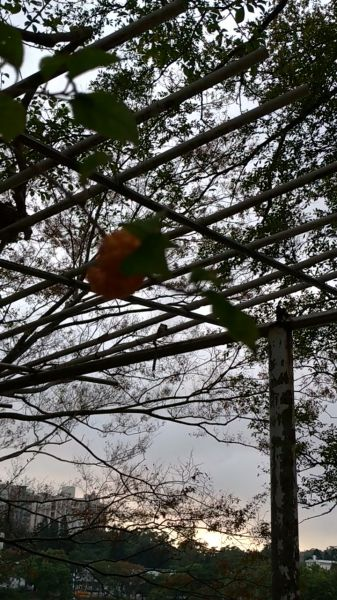eggs: (77, 228, 155, 303)
